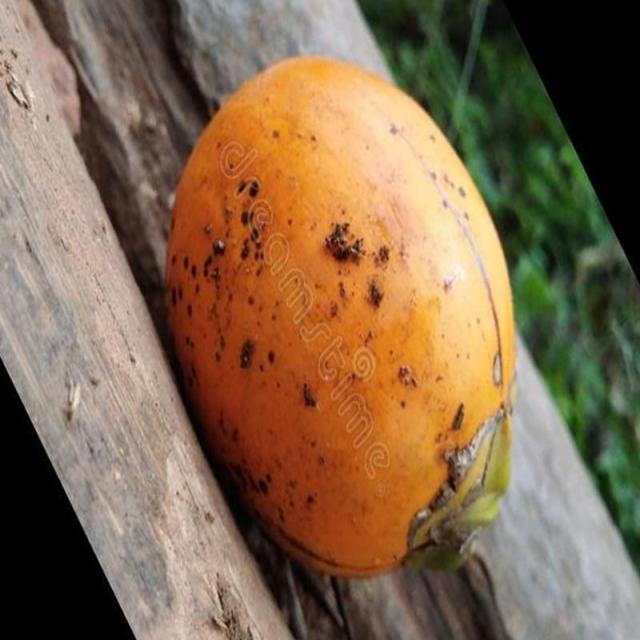good: (162, 55, 519, 582)
